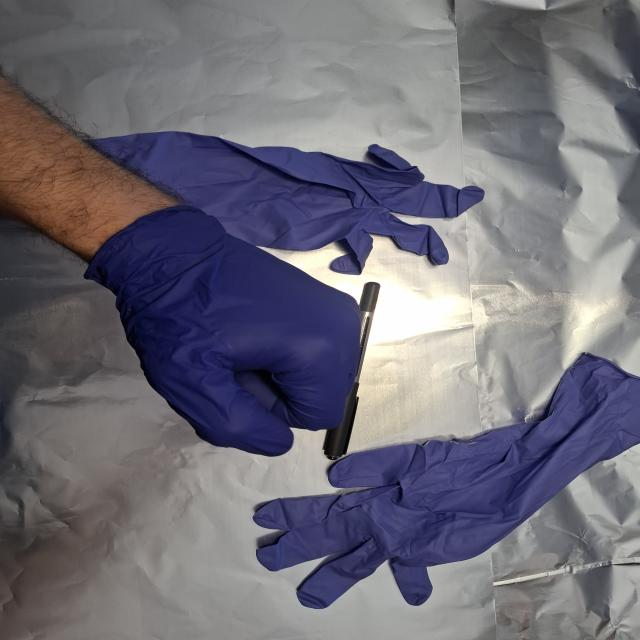glove_on: (95, 210, 369, 456)
